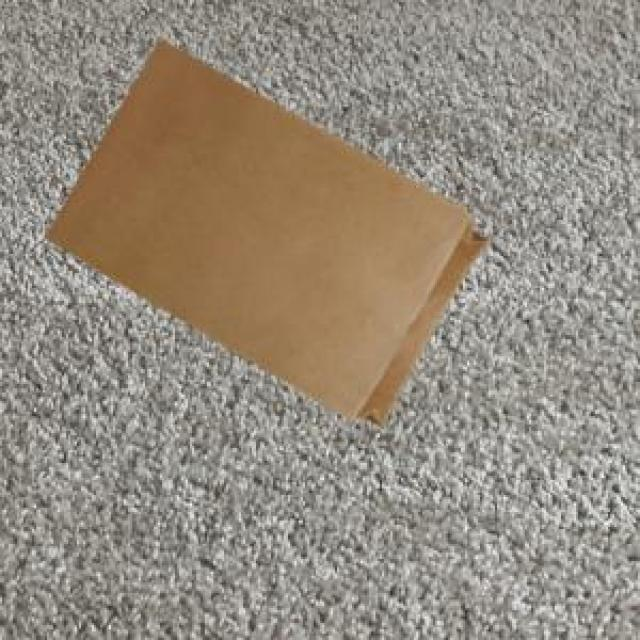Paper -Biodegradable-: (43, 41, 486, 424)
